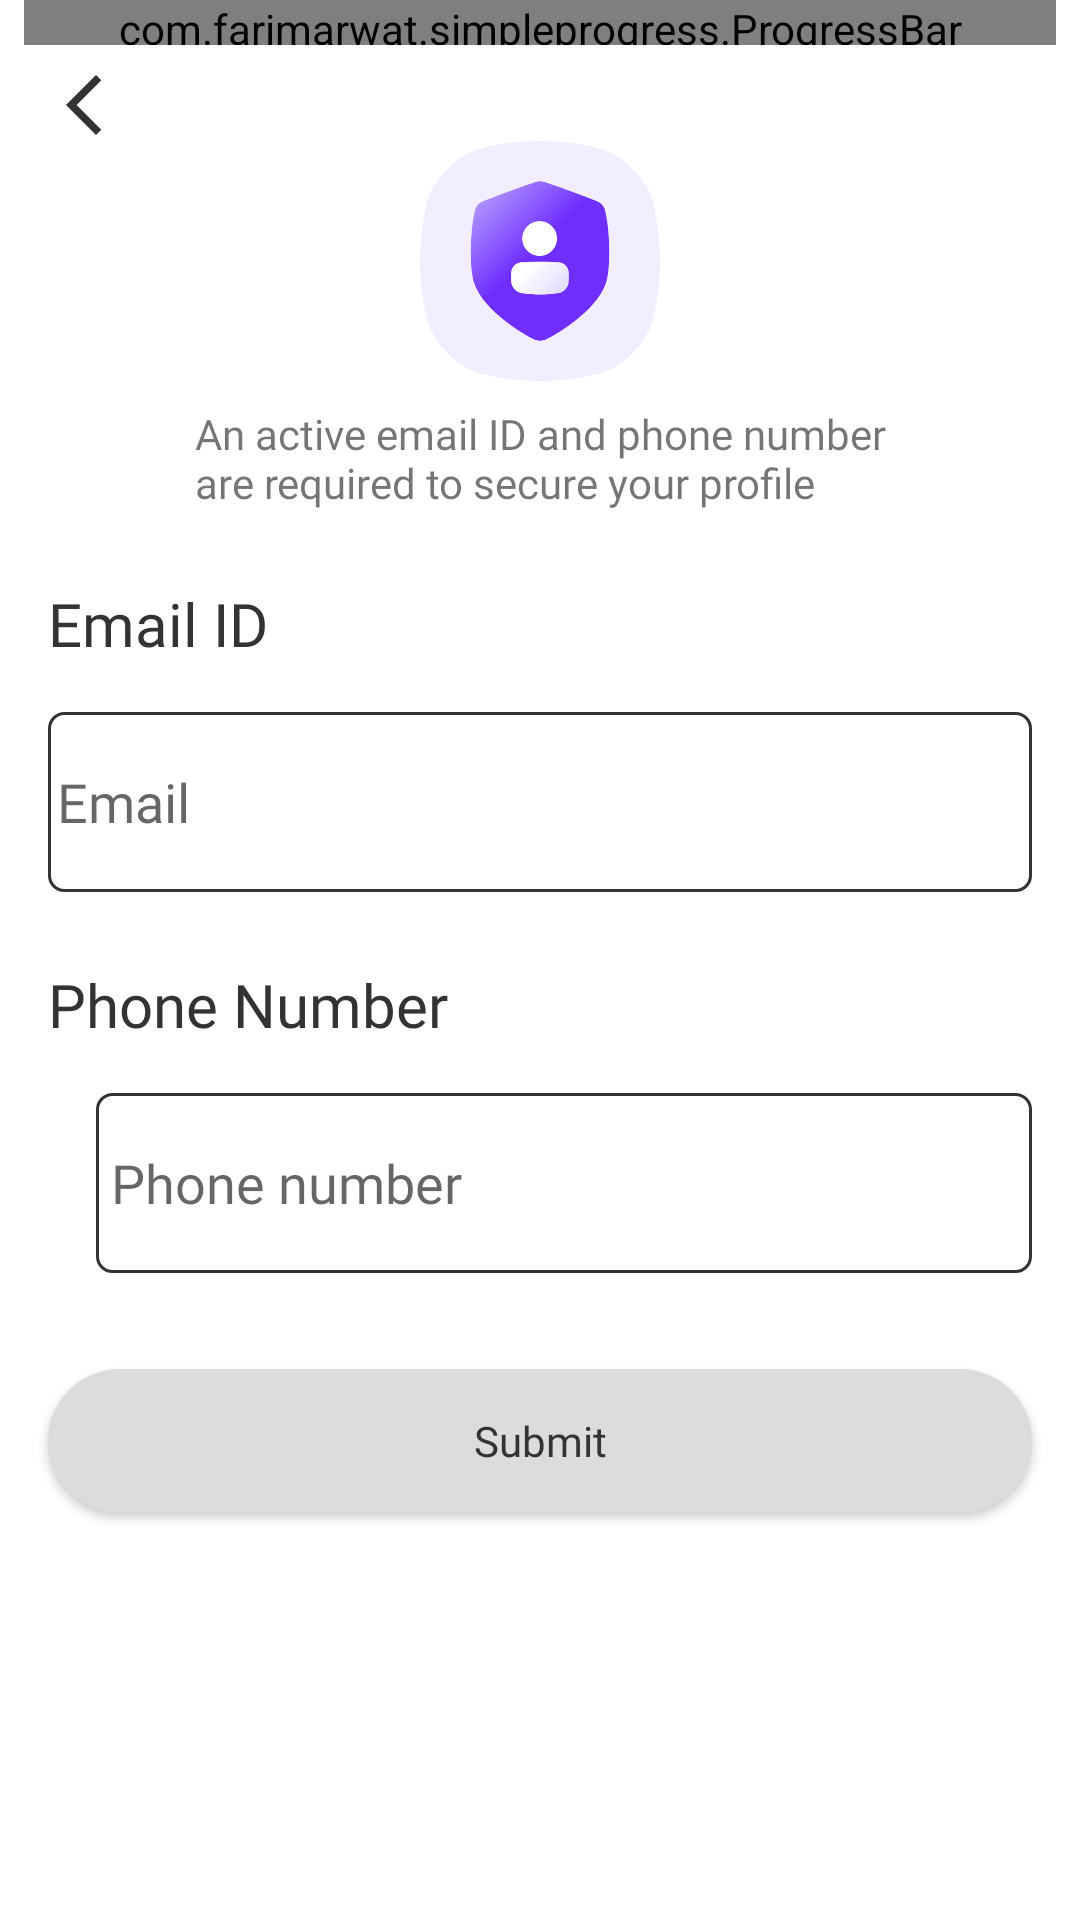

Named icons in this screenshot (1080 x 1920) and their bounding boxes, (x1, y1, x2, y2):
arrow back: (66, 75, 101, 135)
privacy: (470, 181, 610, 341)
